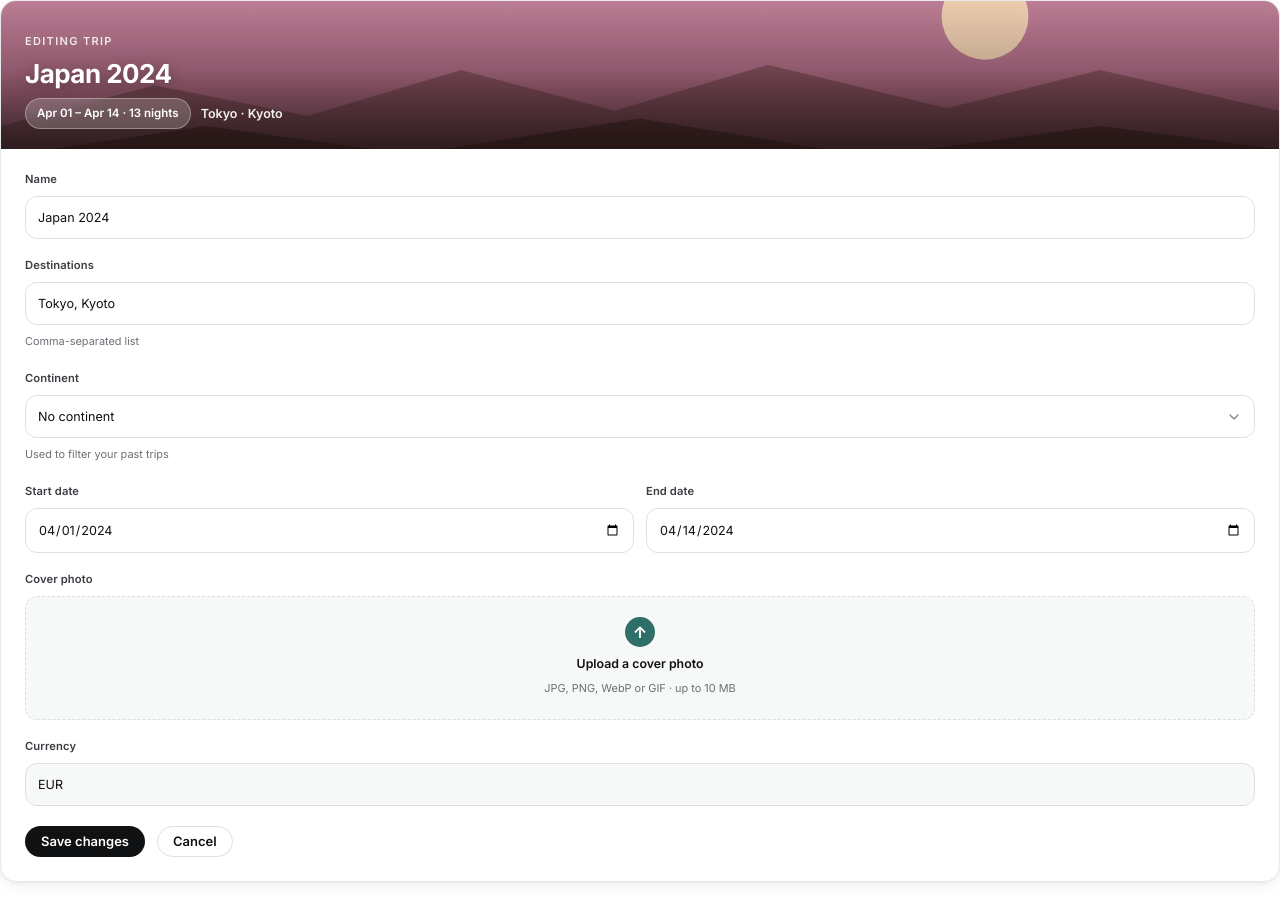
Test: TripForm — edit mode › shows expand info when date range grows
Note: Extend end date beyond original 2024-04-14
Step 1. Type "2024-04-20" into the date field labelled "End date" → (950, 530), box [646,508,1255,553]
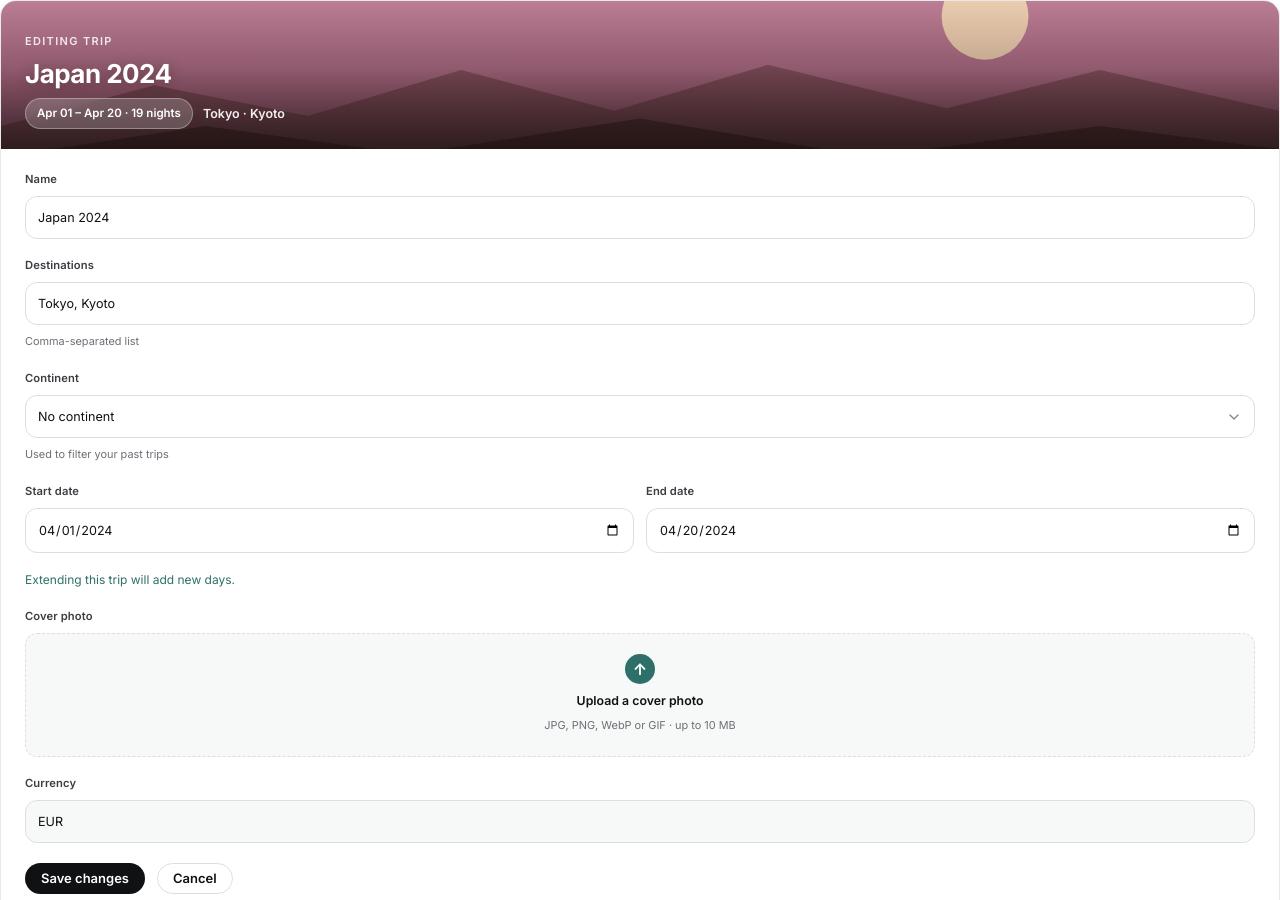
Result: the message shows "add new days" at [25,572,235,587]
